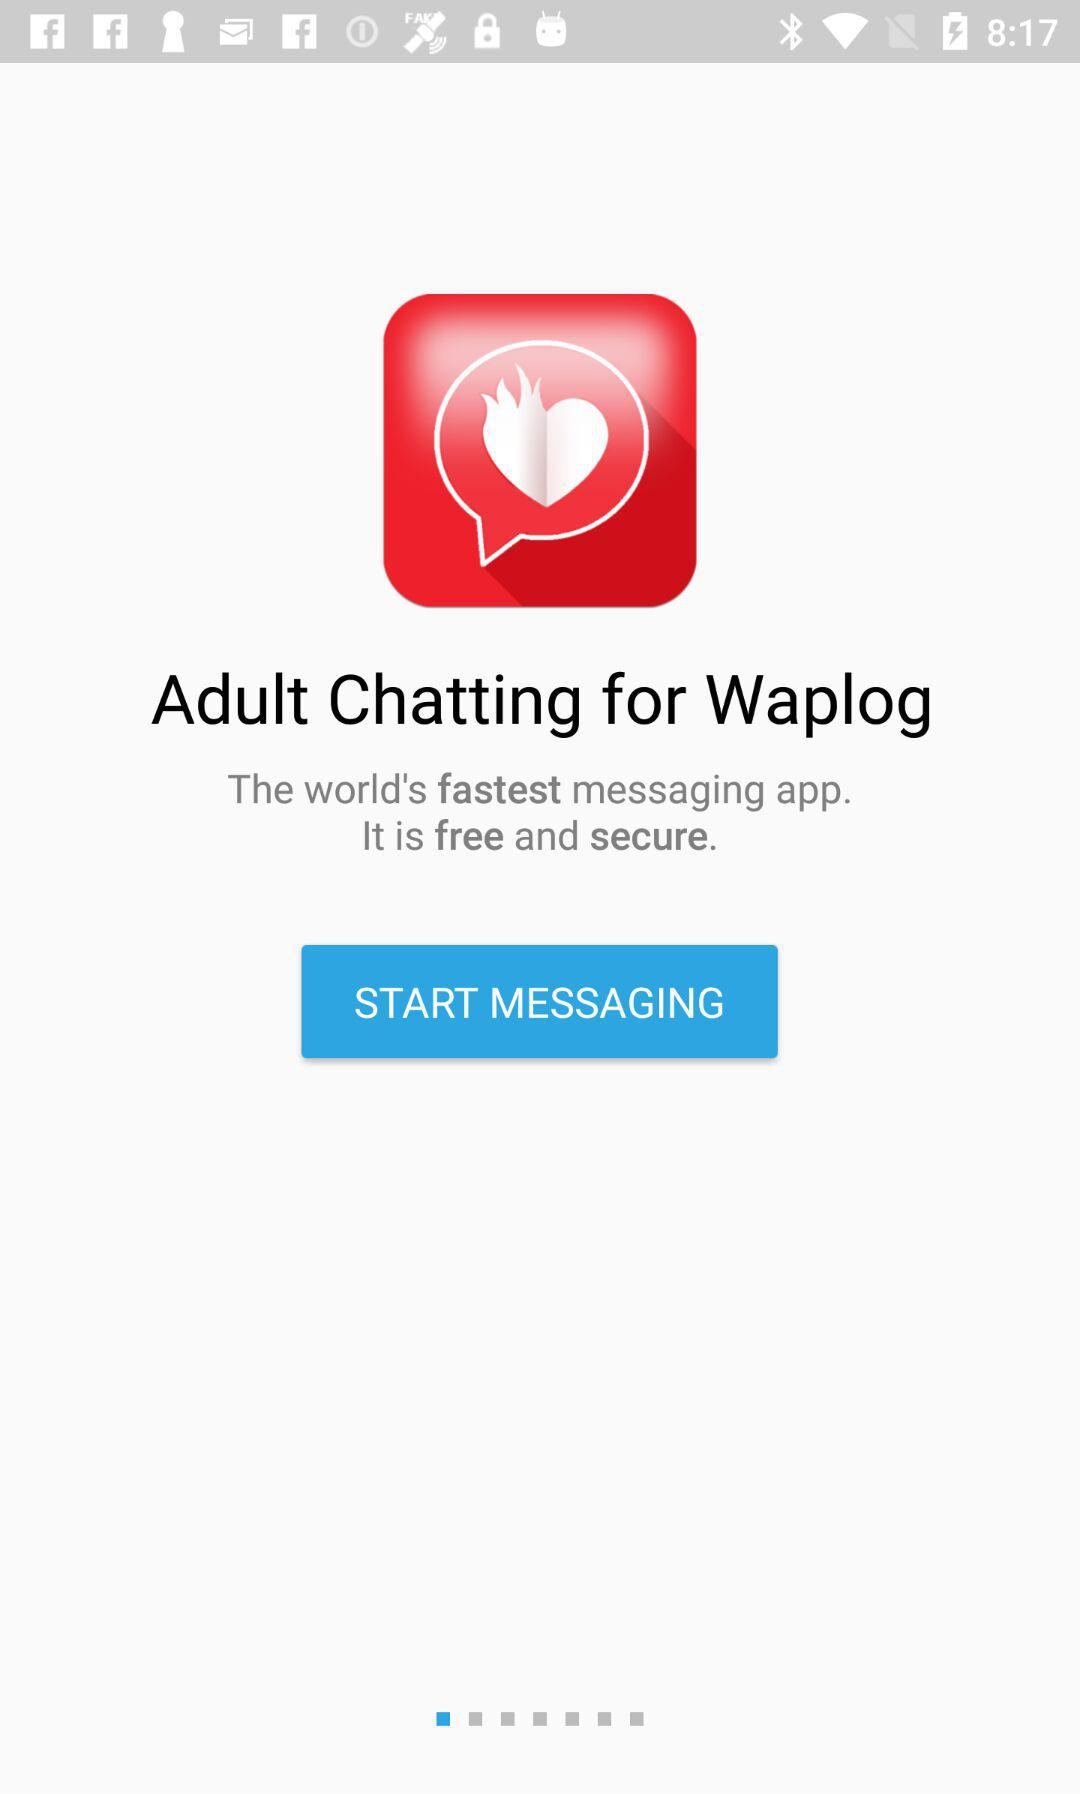Image: (383, 293, 698, 609)
PageIndicator: (436, 1711, 646, 1727)
Text: (151, 671, 931, 739), (228, 771, 851, 853)
TextButton: (302, 944, 778, 1058)
UpperTaskBar: (1, 1, 1080, 64)
